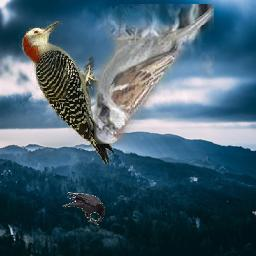Crow: (63, 193, 106, 226)
Sparrow: (94, 4, 214, 144)
Woodpecker: (20, 22, 115, 165)
